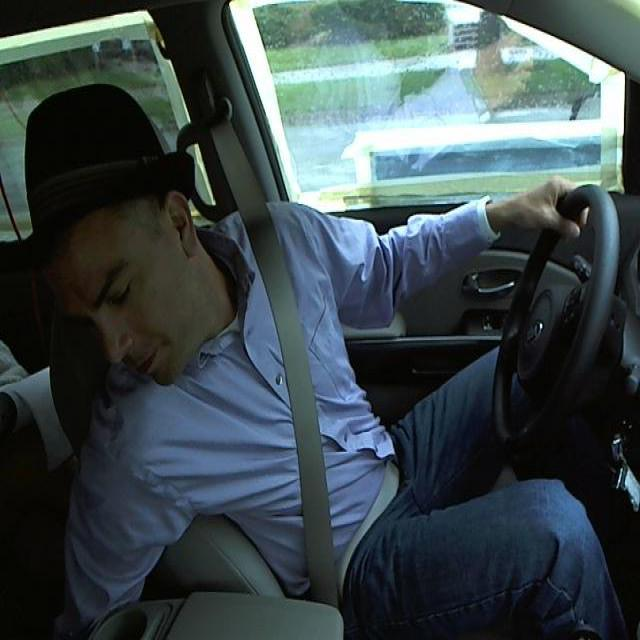seatbelt: (258, 259, 379, 601)
